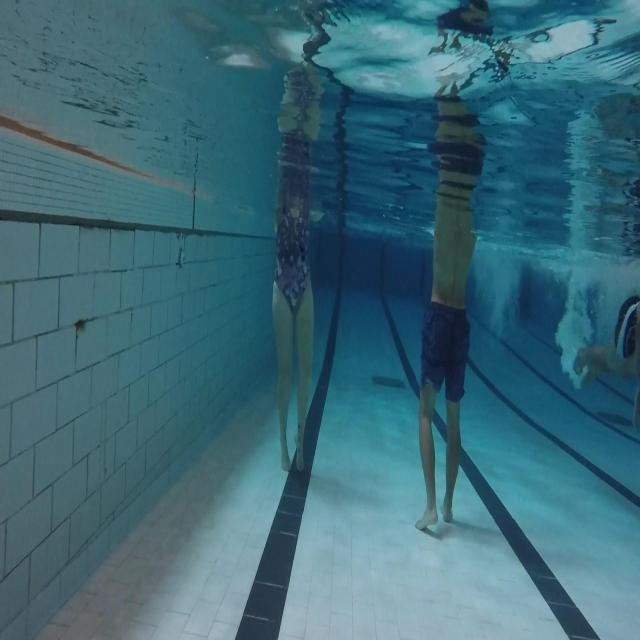human: (414, 79, 487, 531), (271, 64, 325, 473), (573, 293, 639, 432)
